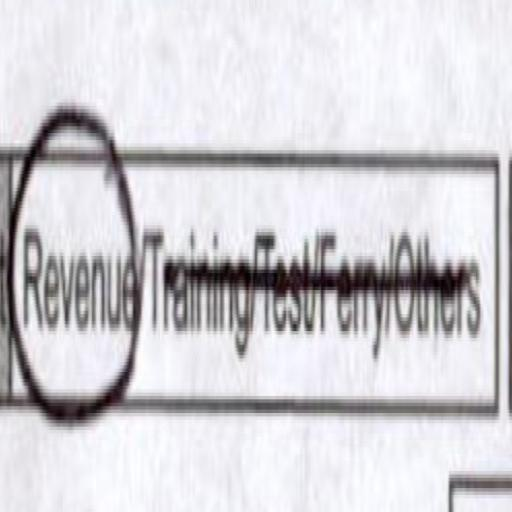check: (12, 67, 145, 466)
